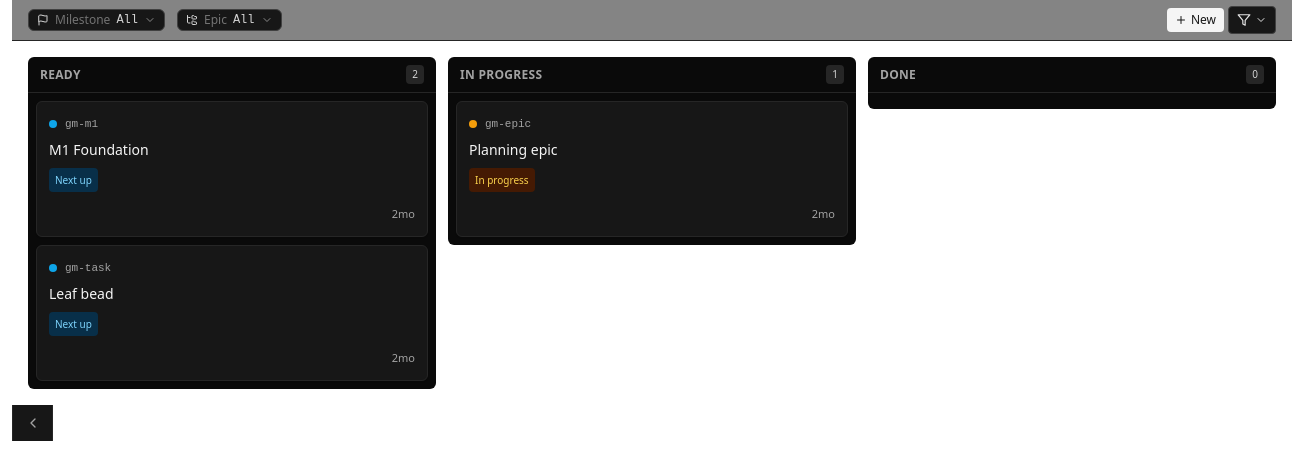
Scenario: BoardPage › defaults beads-only mode to the same status board
Click the button with test id "board-filter-menu-button": [1252, 20] box [1228,6,1276,34]
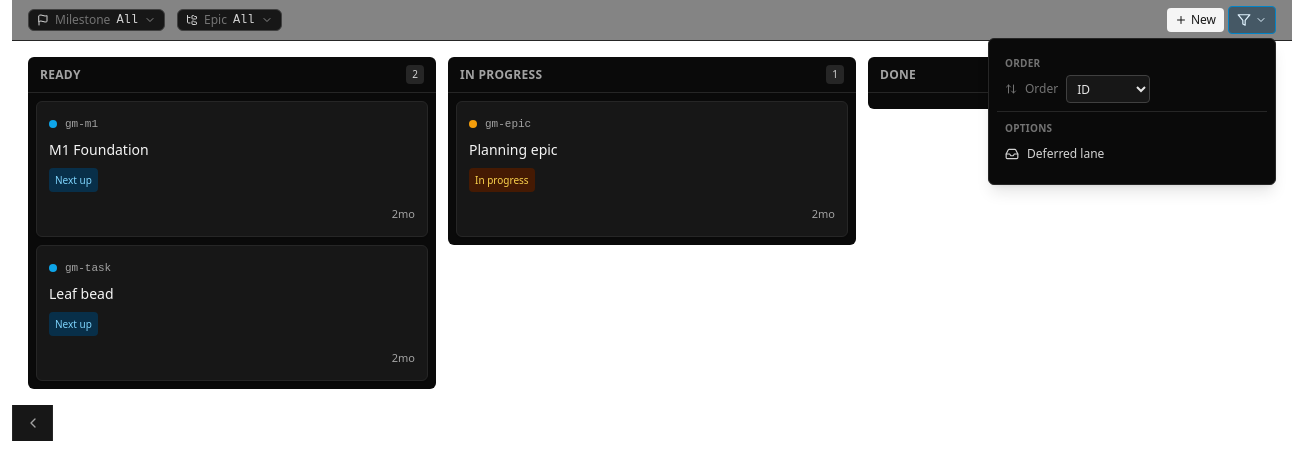
Expected: the element with test id "board-milestone-picker" is shown, [28,9,165,31]
Expected: the menu with test id "board-filter-menu" is shown, [988,38,1276,185]
